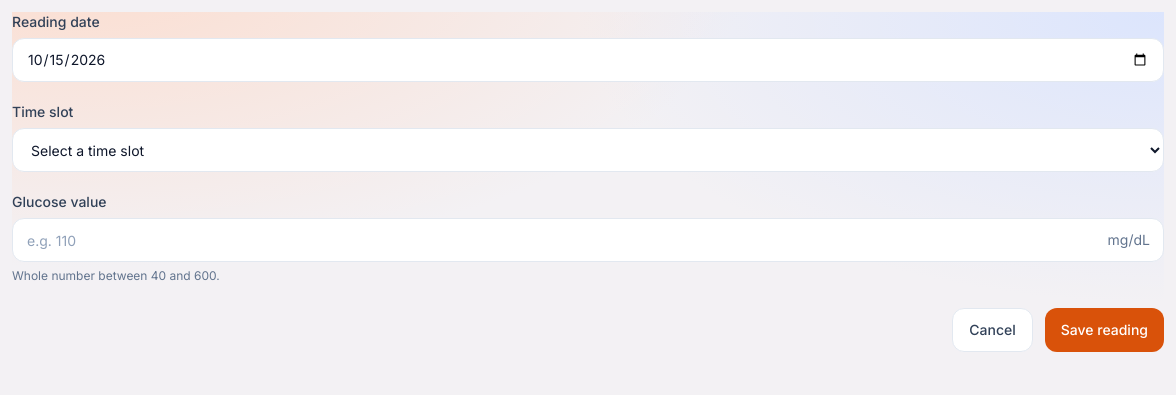
Test: ReadingForm › shows a duplicate-slot error returned by the API next to the time slot
Select "After Lunch" in the dropdown labelled "Time slot": (588, 150) [12,128,1164,172]
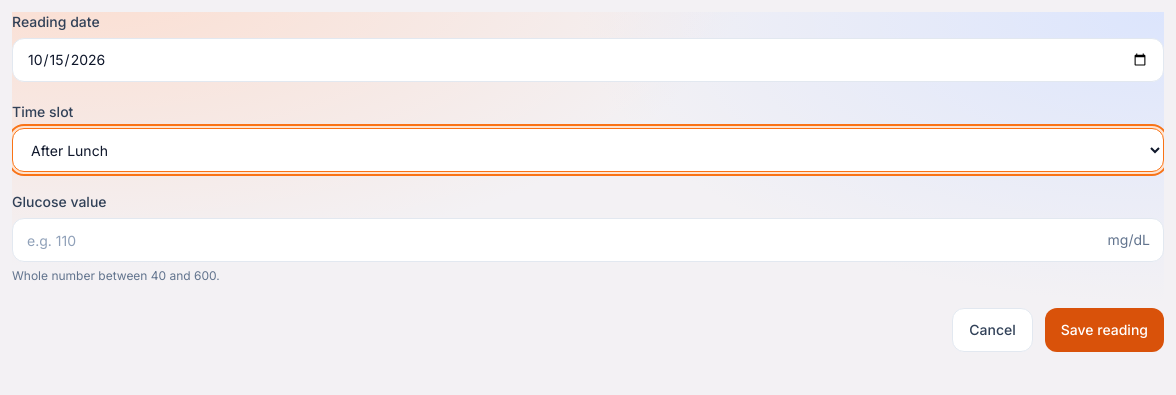
In the number field labelled "Glucose value": (588, 240) [12,218,1164,262], type "150"
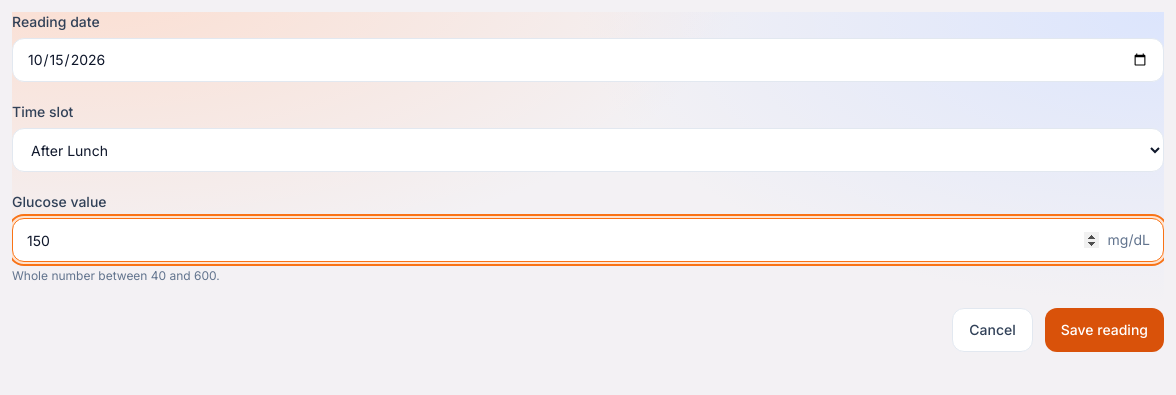
Click the button "Save reading": (1104, 330) [1045,308,1164,352]
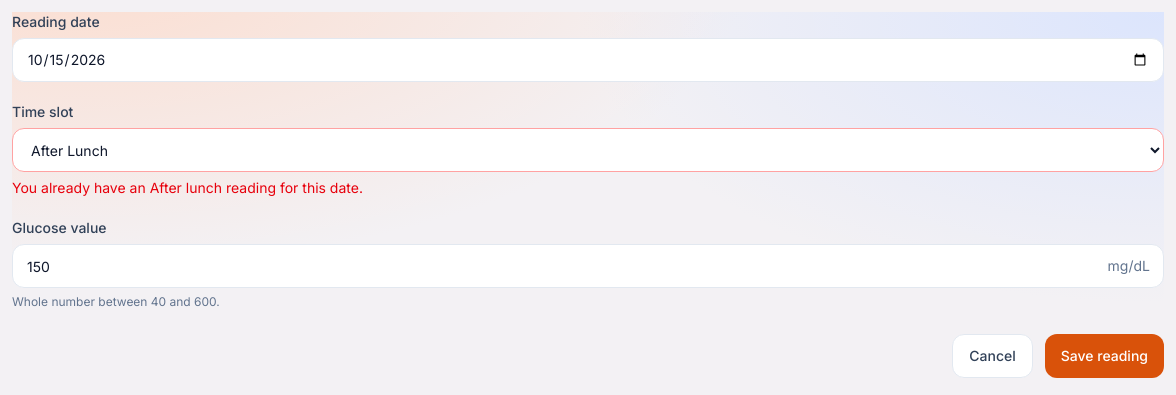
expect the text "You already have an After lunch reading for this date." is shown: met, box [12,179,363,196]
